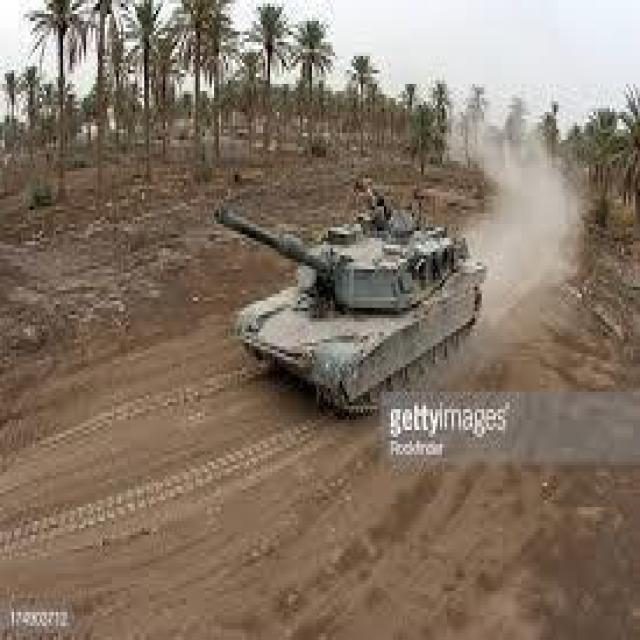Tanks: (216, 190, 486, 422)
